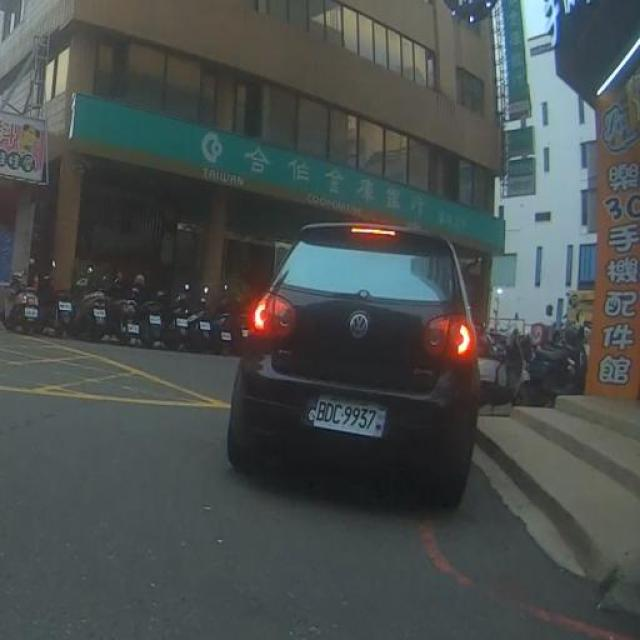Legalparking: (0, 272, 254, 350), (486, 281, 589, 417)
illegalparking: (228, 221, 479, 509)
